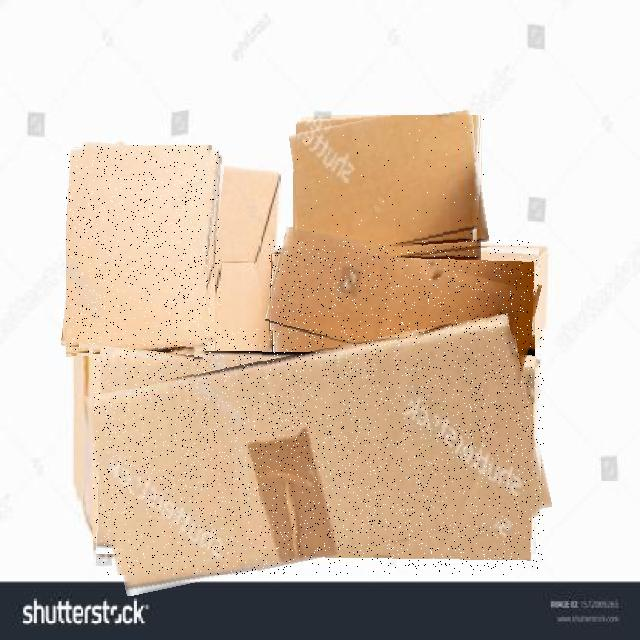BoxFace: (93, 328, 544, 575), (269, 240, 539, 365), (66, 145, 220, 357), (293, 115, 485, 260)
